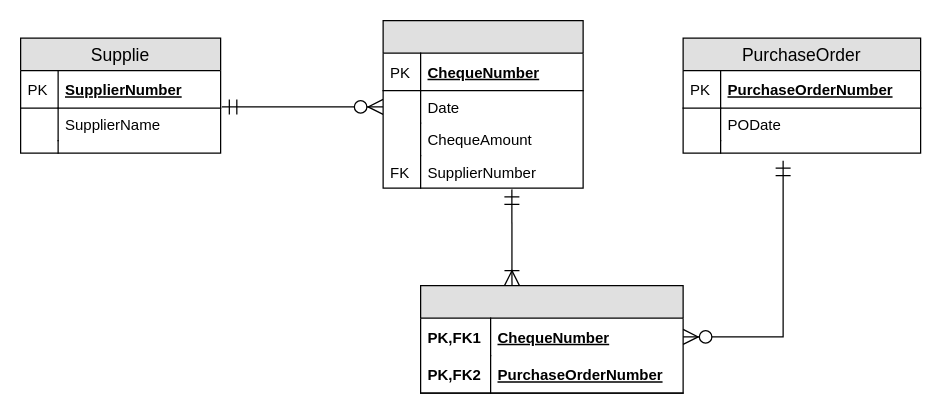
The diagram is 941 pixels wide and 414 high, and some of its shapes have lost their labels. Here are the shapes that lost their labels. From the top down, the box of each, then its label:
(382, 19, 583, 188): ChequeRegister
(419, 284, 683, 393): PurchaseOrderPayment
